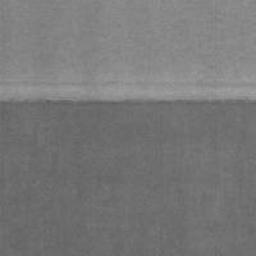Welding line: (0, 97, 256, 109)
